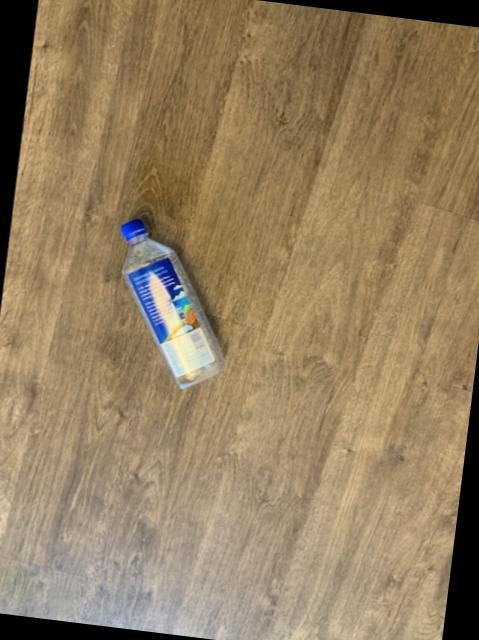plastic: (122, 221, 224, 389)
